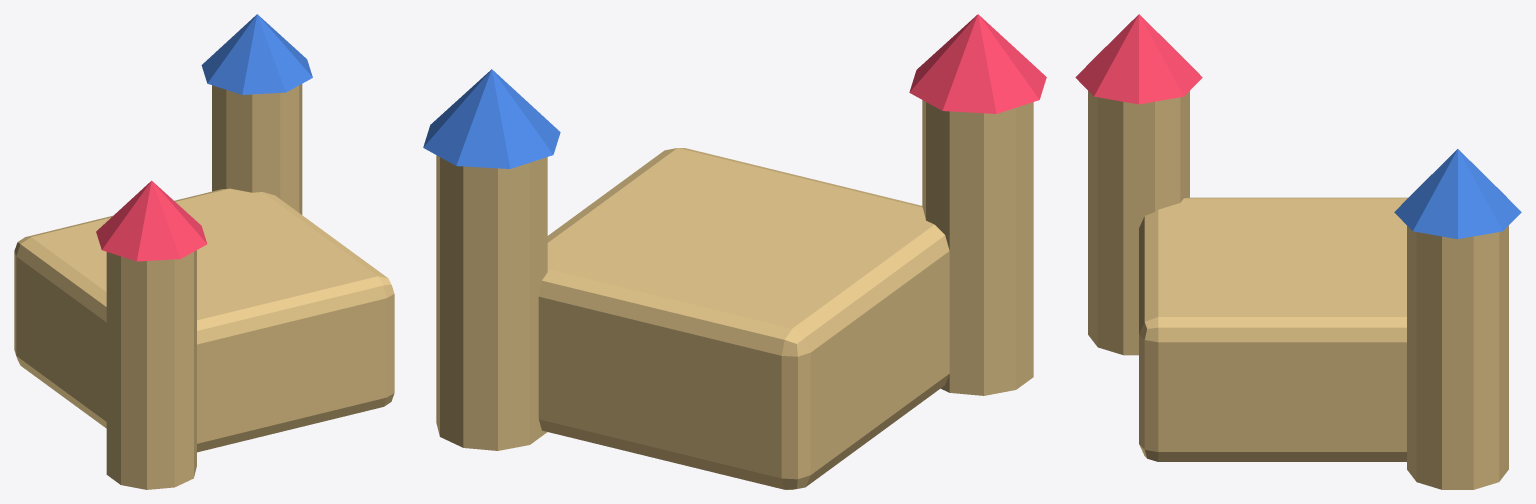
File: Surfing_Sandcastle.fbx
The picture shows the model from 3 angles, left to right: view 1: azimuth 30°, elevation 25°; view 2: azimuth 150°, elevation 25°; view 3: azimuth 270°, elevation 25°; orthographic projection. The views are drawn at different scales.
Visible parts, largest first — view 1: Sandcastle; view 2: Sandcastle; view 3: Sandcastle.
Boxes of the visible parts, x1=… form: Sandcastle: x1=14, y1=14, x2=394, y2=489; Sandcastle: x1=423, y1=14, x2=1046, y2=489; Sandcastle: x1=1075, y1=14, x2=1521, y2=489.
Bounding box in the file's own units: 1.4 × 1.11 × 1.4.
